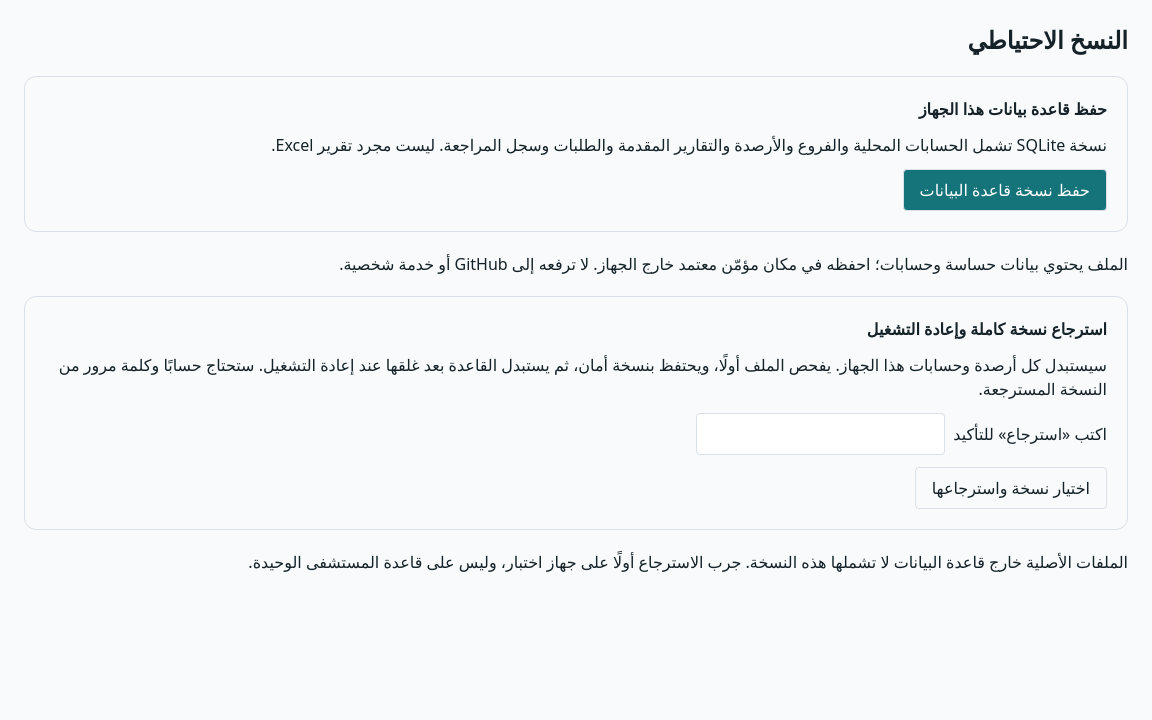
Test case: shows an export failure without reporting a successful backup
The image size is (1152, 720).
Click the button "حفظ نسخة قاعدة البيانات" at point(1005, 190), box [903,169,1107,211]
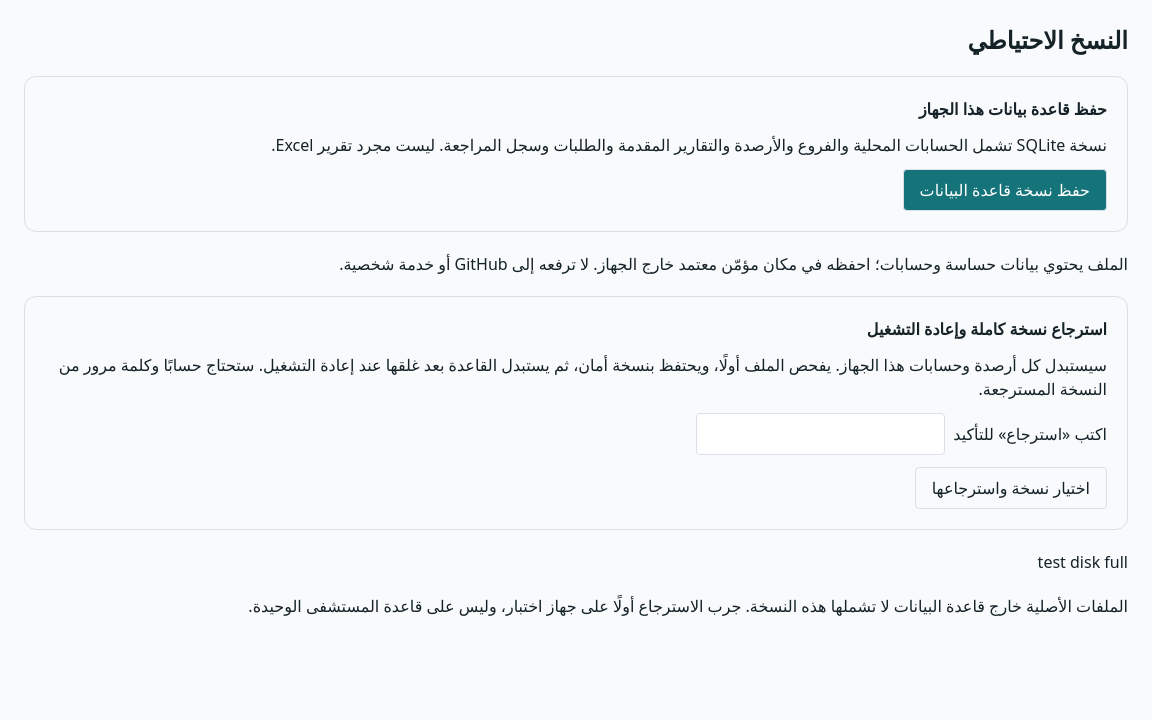
Now the message reads "test disk full", box [1038,551,1128,573]
